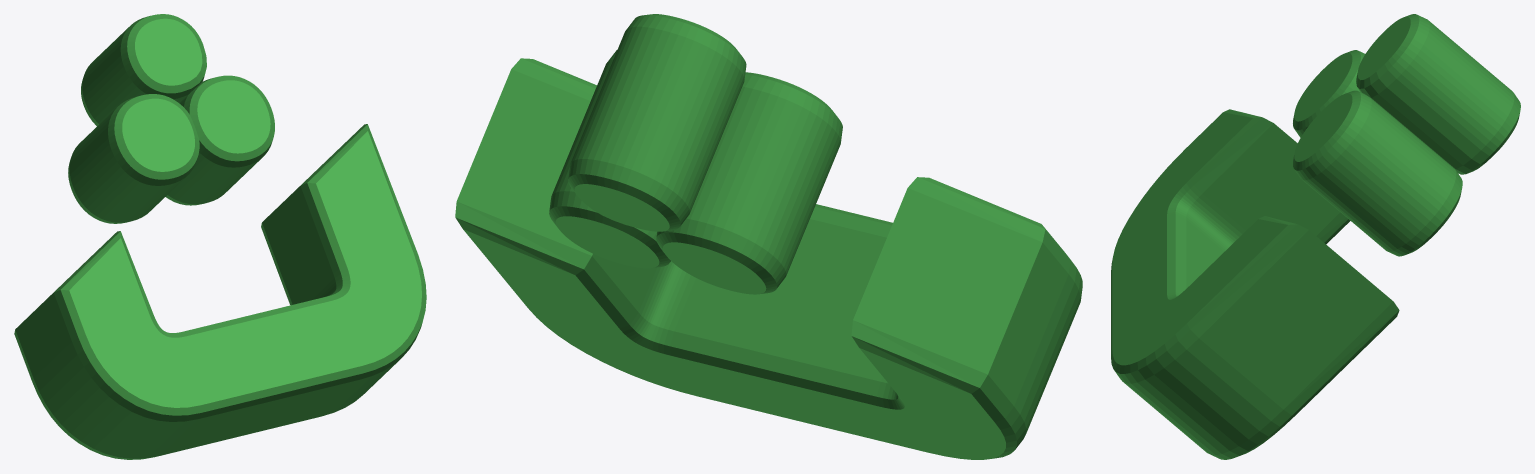
The picture shows the model from 3 angles, left to right: view 1: azimuth 30°, elevation 25°; view 2: azimuth 150°, elevation 25°; view 3: azimuth 270°, elevation 25°; orthographic projection. The views are drawn at different scales.
Visible parts, largest first — view 1: letter; view 2: letter; view 3: letter.
Boxes of the visible parts, box(x1,y1,x2,y2) form: letter: box(14, 14, 426, 459); letter: box(455, 14, 1082, 459); letter: box(1111, 14, 1520, 459).
Size of the model in its own units: 1.06 by 1.03 by 0.9929.
